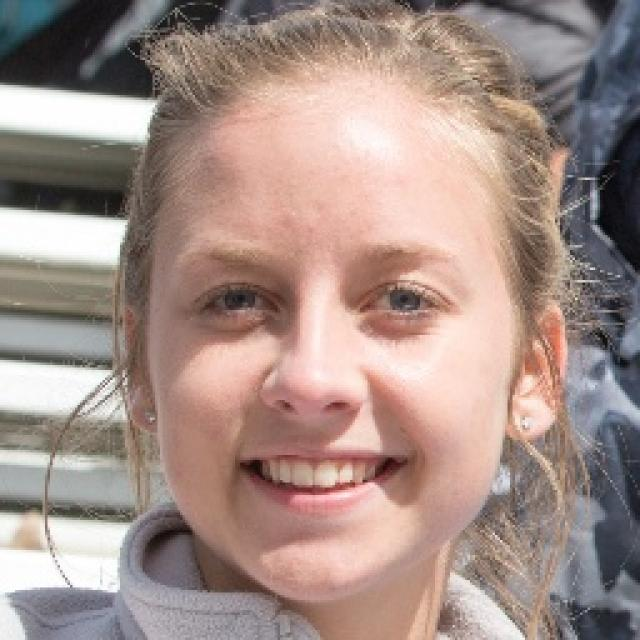earlobe: (504, 300, 577, 442), (118, 288, 153, 438)
